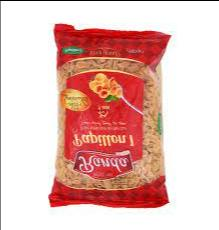Papillon: (53, 26, 170, 206)
